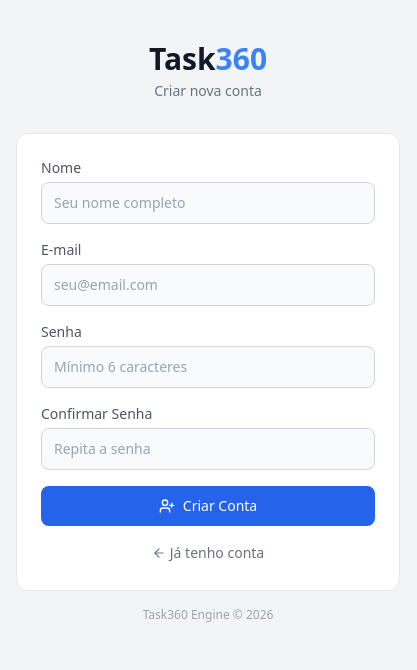
Test: RegisterPage › should show error when password is too short
Type "João" into the field with placeholder "Seu nome completo" at (208, 203), box [41,182,375,224]
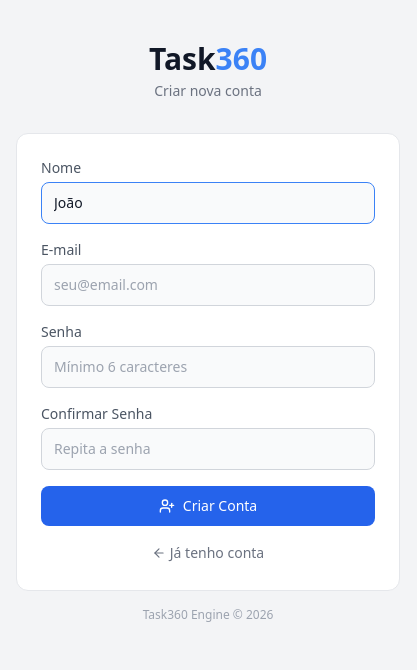
Type "joao@test.com" into the field with placeholder "seu@email.com" at (208, 285), box [41,264,375,306]
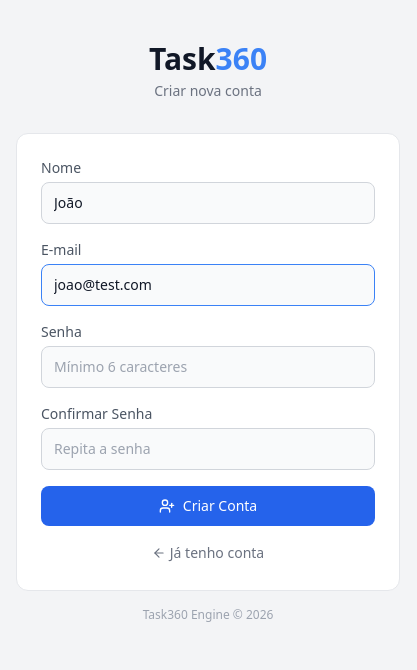
Type "123" into the password field with placeholder "Mínimo 6 caracteres" at (208, 367), box [41,346,375,388]
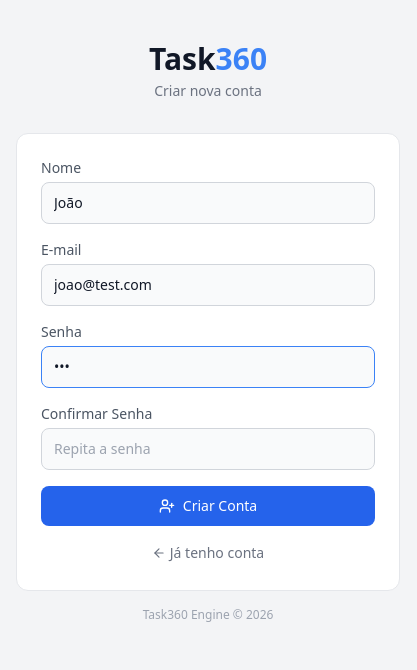
Type "123" into the password field with placeholder "Repita a senha" at (208, 449), box [41,428,375,470]
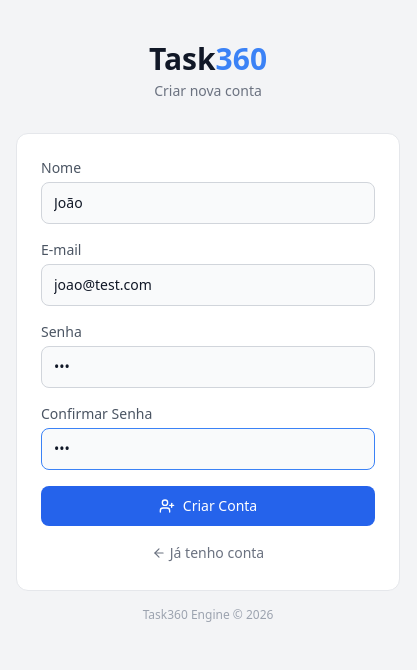
Click the button "Criar Conta" at (208, 506), box [41,486,375,526]
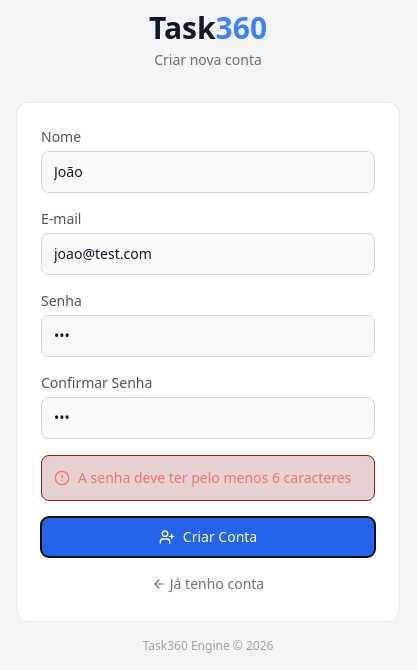
Check: the text "A senha deve ter pelo menos 6 caracteres" is shown, box [41,455,375,501]
